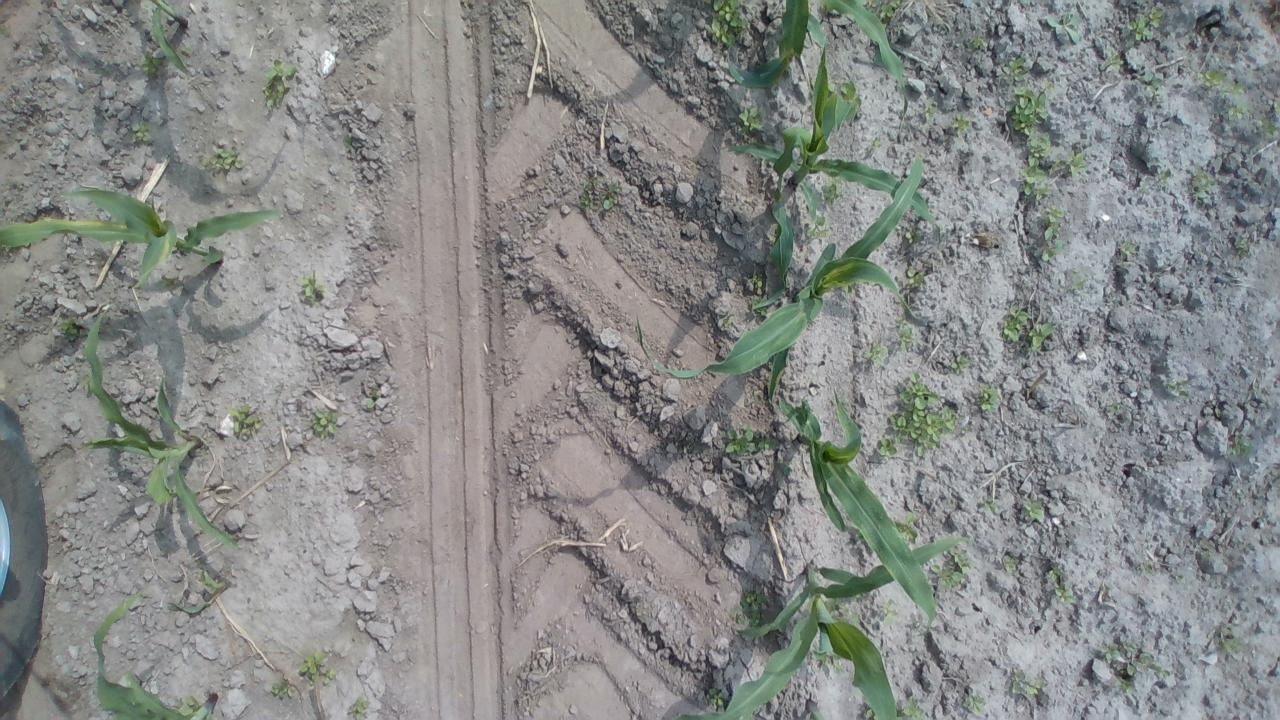Maize: (636, 156, 924, 404), (722, 39, 942, 313), (672, 534, 978, 720), (78, 301, 241, 550), (774, 388, 936, 636), (2, 188, 280, 291), (725, 0, 909, 131), (94, 591, 219, 720), (151, 0, 196, 77), (166, 570, 228, 616)
Weeds: (876, 372, 958, 460), (1100, 642, 1171, 694), (262, 55, 300, 116), (1004, 85, 1050, 135), (706, 0, 752, 48), (1020, 129, 1050, 200), (929, 550, 974, 590), (578, 176, 623, 212), (200, 142, 245, 178), (1124, 6, 1166, 44), (730, 588, 768, 628), (1042, 205, 1066, 262), (1044, 11, 1083, 46), (1010, 667, 1047, 701), (1190, 158, 1218, 202), (228, 403, 264, 436), (724, 422, 756, 459), (300, 264, 328, 306), (1002, 302, 1028, 347), (896, 512, 926, 549), (1208, 624, 1242, 656), (1050, 150, 1088, 177), (296, 648, 326, 682), (894, 312, 916, 352), (312, 406, 339, 438), (1028, 320, 1054, 353), (861, 342, 892, 368), (1018, 498, 1048, 524), (737, 104, 763, 134), (881, 593, 903, 628), (1101, 46, 1125, 77), (1002, 56, 1028, 84), (1228, 428, 1252, 458), (977, 380, 999, 412), (1162, 377, 1192, 400), (346, 694, 372, 720), (902, 268, 927, 294), (1198, 66, 1226, 89), (962, 691, 987, 716), (268, 678, 294, 701), (1053, 582, 1076, 608), (808, 215, 831, 239), (140, 53, 162, 78), (820, 180, 841, 206), (980, 494, 1000, 521), (904, 694, 926, 718), (1257, 118, 1280, 140), (1231, 234, 1252, 258), (878, 0, 904, 19), (964, 33, 990, 52), (953, 112, 972, 138), (130, 120, 151, 143), (1226, 102, 1248, 122), (60, 316, 80, 338), (708, 685, 728, 707), (1001, 554, 1020, 577), (1193, 538, 1216, 556), (1156, 165, 1174, 188), (177, 696, 200, 714), (1143, 72, 1163, 92), (1070, 272, 1090, 292), (922, 98, 939, 121), (868, 134, 884, 158), (366, 385, 382, 409), (904, 226, 922, 246), (950, 355, 970, 372), (756, 436, 780, 450), (1116, 241, 1134, 259), (748, 270, 762, 292), (1046, 564, 1065, 580), (838, 610, 863, 622), (1138, 559, 1154, 576), (1226, 80, 1242, 97), (1106, 400, 1122, 417), (159, 273, 176, 288), (324, 667, 338, 685), (826, 597, 842, 611), (180, 45, 196, 58), (1040, 80, 1054, 94), (832, 660, 846, 674), (1171, 572, 1186, 584), (1214, 400, 1224, 418), (341, 134, 354, 146), (960, 426, 972, 437), (868, 0, 882, 8), (759, 308, 768, 318), (864, 708, 871, 720), (724, 321, 734, 328), (687, 444, 694, 450)
